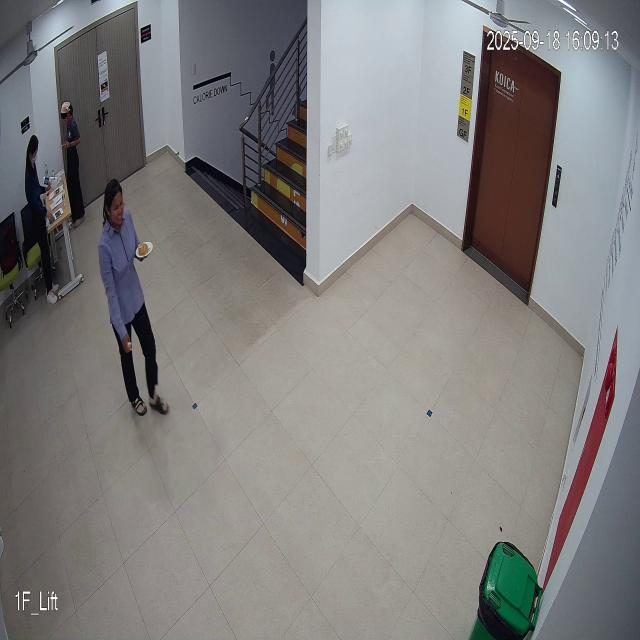face: (100, 177, 132, 233)
